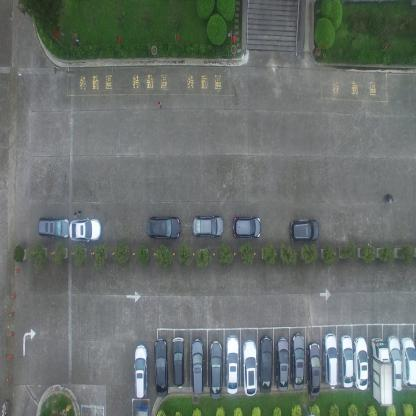car: (369, 337, 392, 407), (385, 334, 402, 392), (147, 212, 181, 240), (322, 332, 338, 390), (69, 215, 101, 243), (400, 335, 416, 390), (242, 339, 257, 397), (209, 339, 223, 401), (153, 338, 167, 398), (225, 334, 239, 394), (291, 331, 305, 391), (258, 335, 272, 394), (339, 334, 354, 389), (190, 338, 204, 394), (275, 336, 289, 392), (354, 336, 368, 392), (232, 213, 261, 240), (289, 217, 319, 242), (192, 213, 223, 237), (36, 215, 68, 238), (307, 341, 320, 397), (134, 343, 147, 398), (172, 335, 185, 388), (134, 405, 149, 415)
